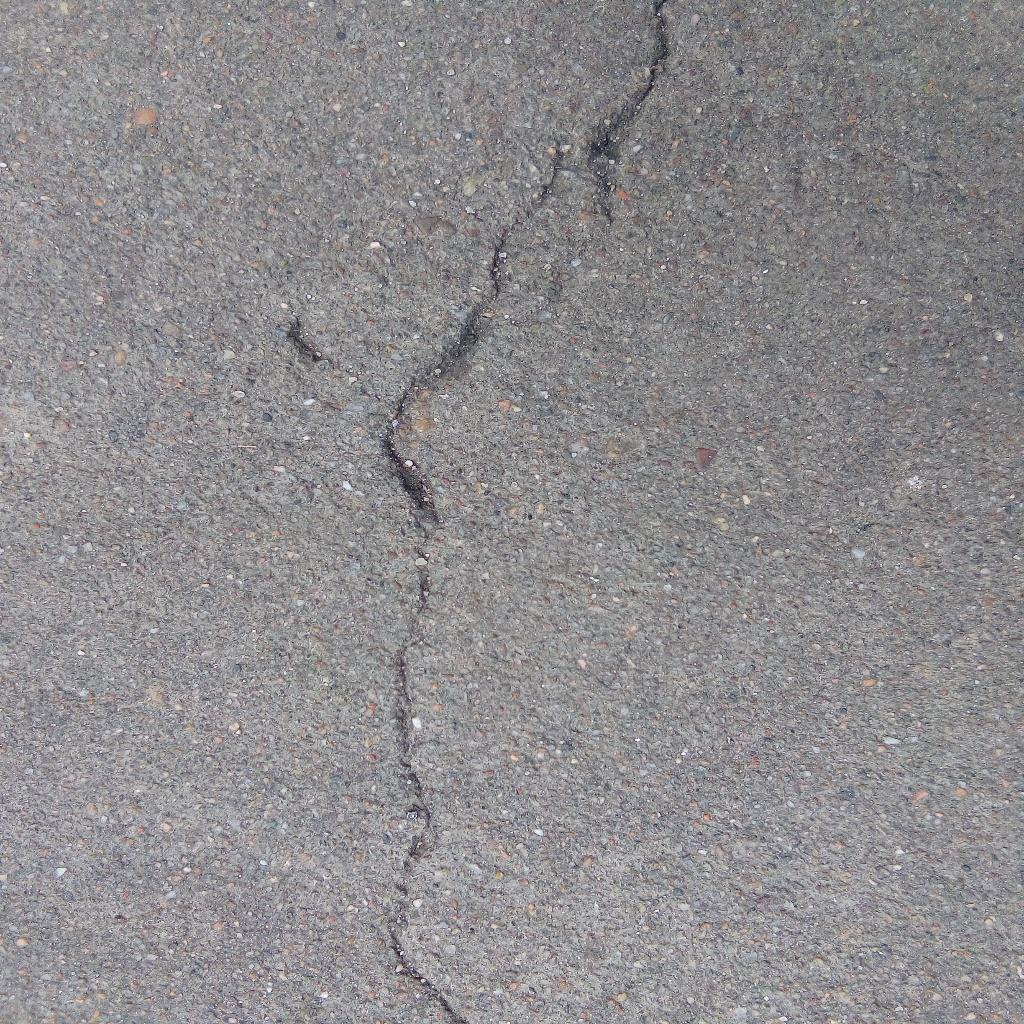Crack: (379, 1, 676, 1024)
